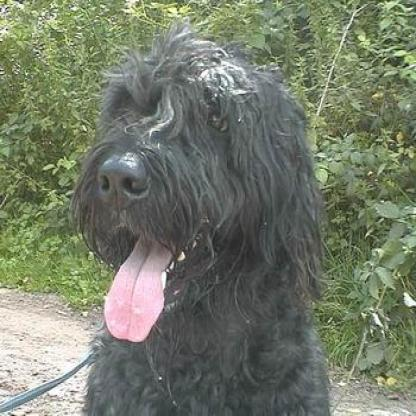Bouvier_des_Flandres: (71, 19, 332, 410)
